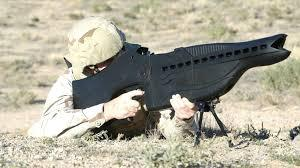gun: (75, 41, 298, 115)
